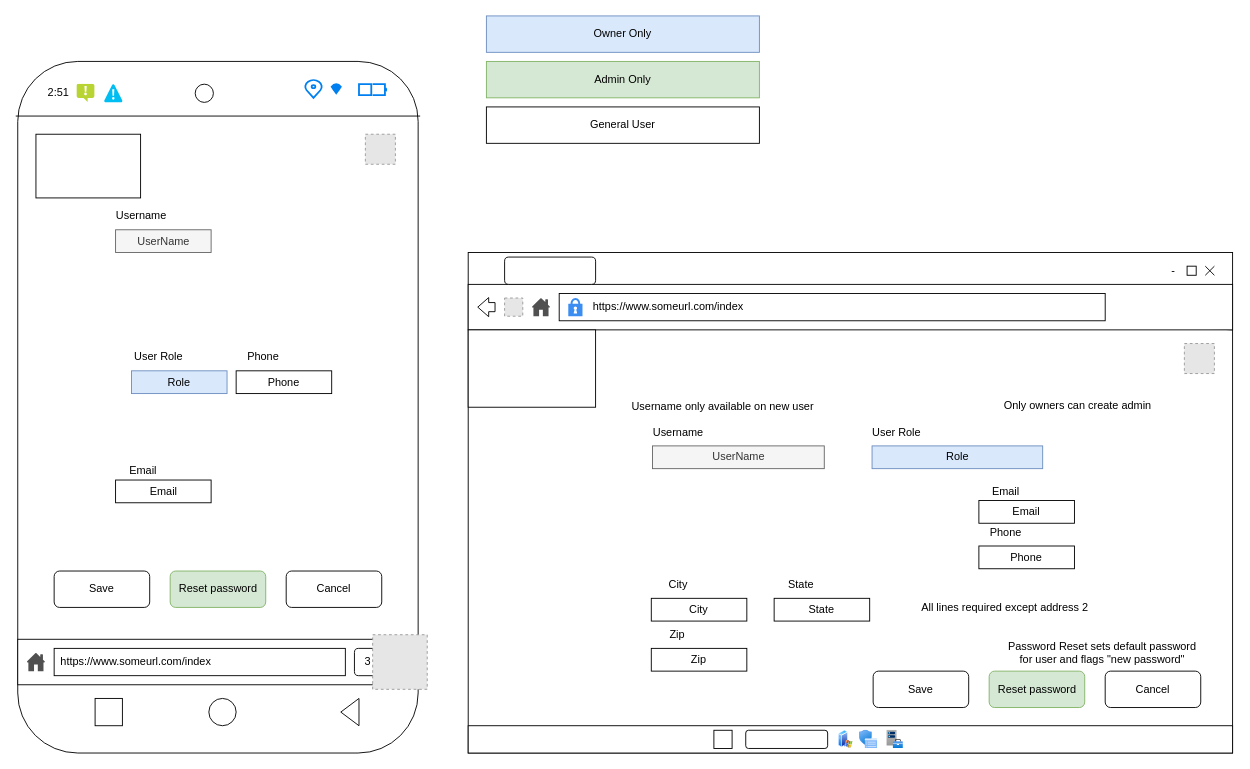
Image size: 1250x769. Some labels were removed from this diagram. Grey dashed boxes stand in for pictures. Each missing label, with the box of its shape:
Company Logo: (467, 329, 596, 407)
Logo: (35, 133, 141, 198)
Search: (745, 729, 828, 748)
Tab: (504, 256, 596, 284)
